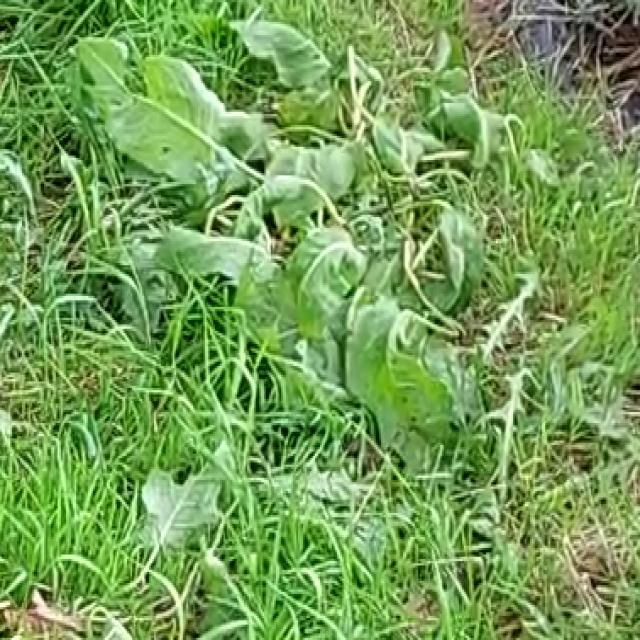organic waste: (96, 31, 534, 456)
